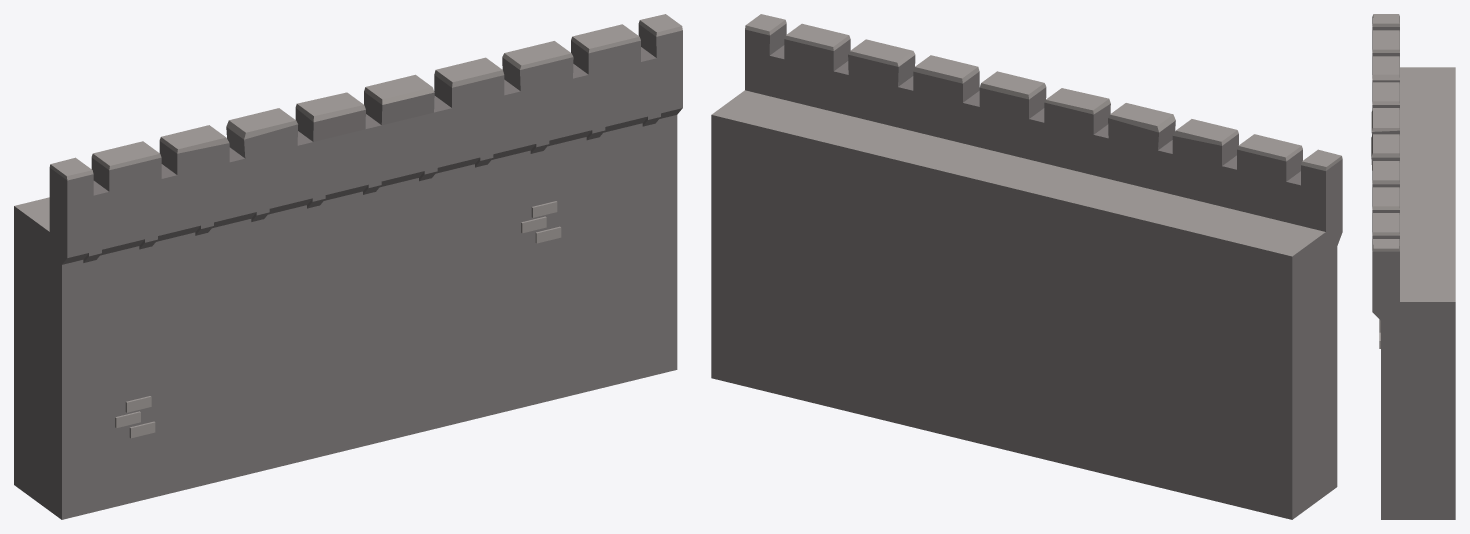
File: wall-medieval-stone.glb
3 views of the same model, side by side, from view 1: azimuth 30°, elevation 25°; view 2: azimuth 150°, elevation 25°; view 3: azimuth 270°, elevation 25° (orthographic). The views are drawn at different scales.
Parts seen in each view (by area): view 1: wall-medieval_stone; view 2: wall-medieval_stone; view 3: wall-medieval_stone.
Part boxes in pixels (x1,y1,x2,y2): wall-medieval_stone: (14, 14, 682, 519); wall-medieval_stone: (711, 14, 1342, 519); wall-medieval_stone: (1371, 14, 1455, 519).
Size of the model in its own units: 15.75 by 8.49 by 2.39.
Materials: 1 (1 with a texture image).
